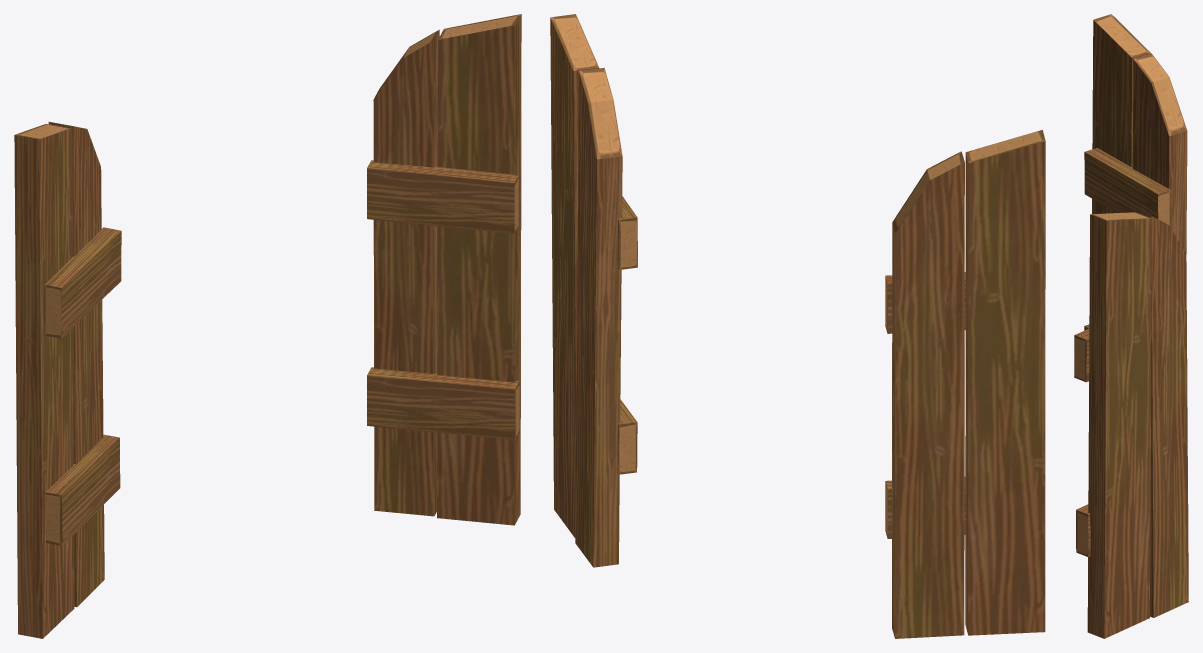
Rendered from windowshutters_thin_round_open.glb.
The picture shows the model from 3 angles, left to right: view 1: azimuth 30°, elevation 25°; view 2: azimuth 150°, elevation 25°; view 3: azimuth 270°, elevation 25°; orthographic projection. The views are drawn at different scales.
Bounding box in the file's own units: 1.61 × 1.52 × 0.3765.
Materials: 1 (1 with a texture image).
